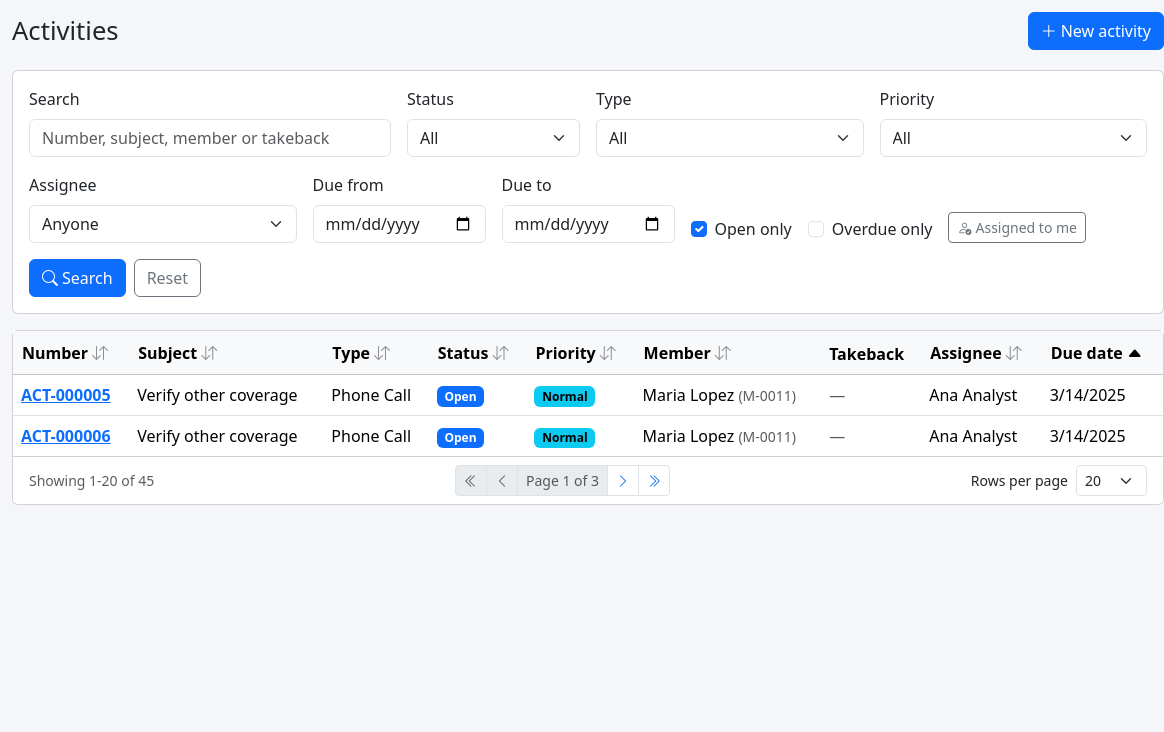
Scenario: ActivityListComponent › paging › requests the next page and keeps it in the URL
This screenshot has width=1164, height=732.
Click the button named "Next page". click: (623, 480)
box: [607,465,639,496]
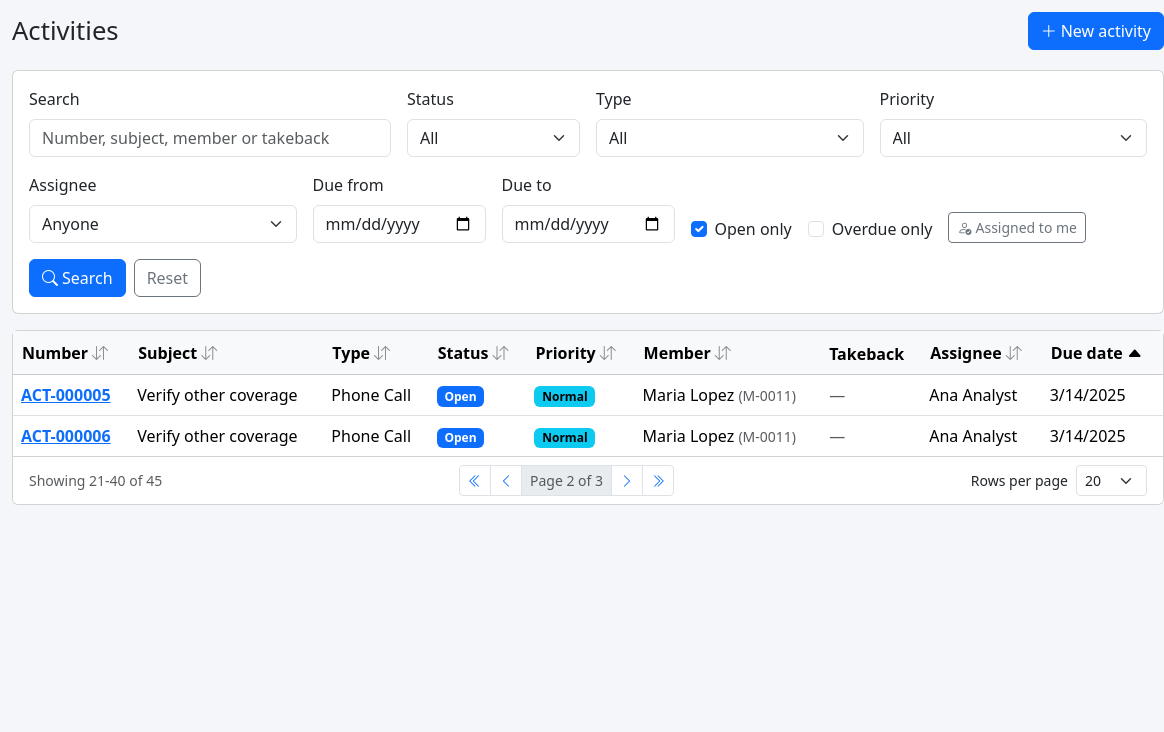
Result: the message "Showing 21-40 of 45" is shown at [29,470,162,491]
